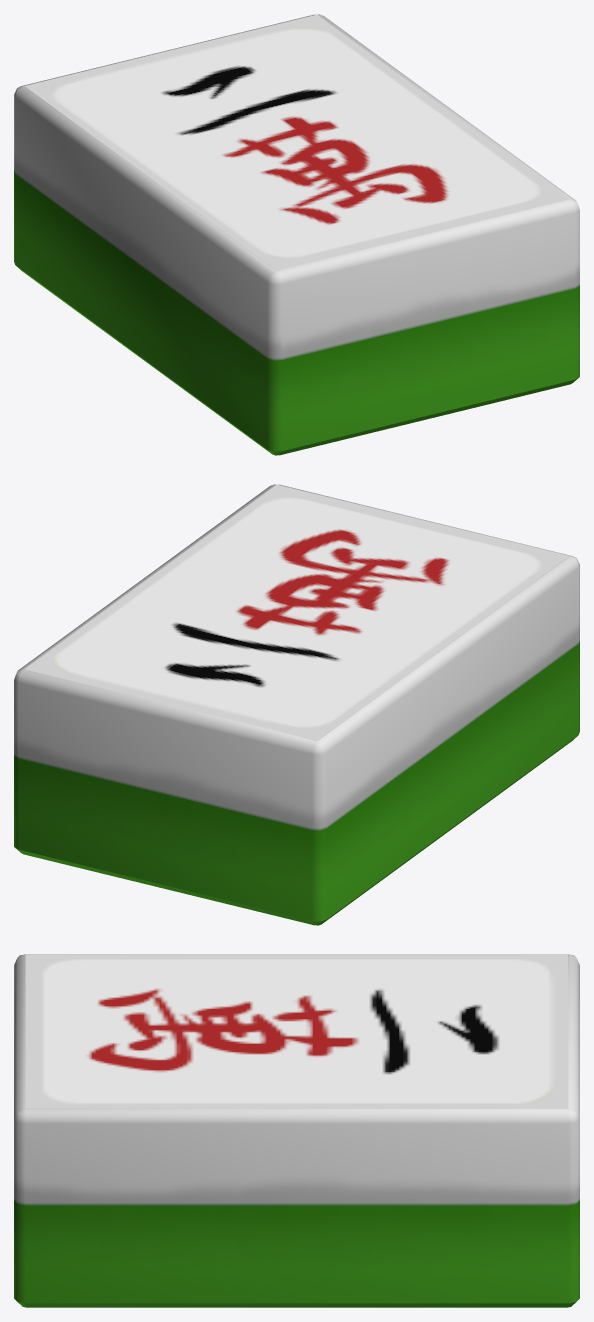
Rendered from mahjong_tile_29.FBX.
3 views of the same model, one above another, from view 1: azimuth 30°, elevation 25°; view 2: azimuth 150°, elevation 25°; view 3: azimuth 270°, elevation 25° (orthographic). The views are drawn at different scales.
Parts seen in each view (by area): view 1: mahjong_tile_29; view 2: mahjong_tile_29; view 3: mahjong_tile_29.
Boxes of the visible parts, left/top/right/bottom form: mahjong_tile_29: left=14, top=14, right=579, bottom=455; mahjong_tile_29: left=14, top=484, right=579, bottom=925; mahjong_tile_29: left=14, top=954, right=579, bottom=1307.
Bounding box in the file's own units: 130 × 73.07 × 190.
